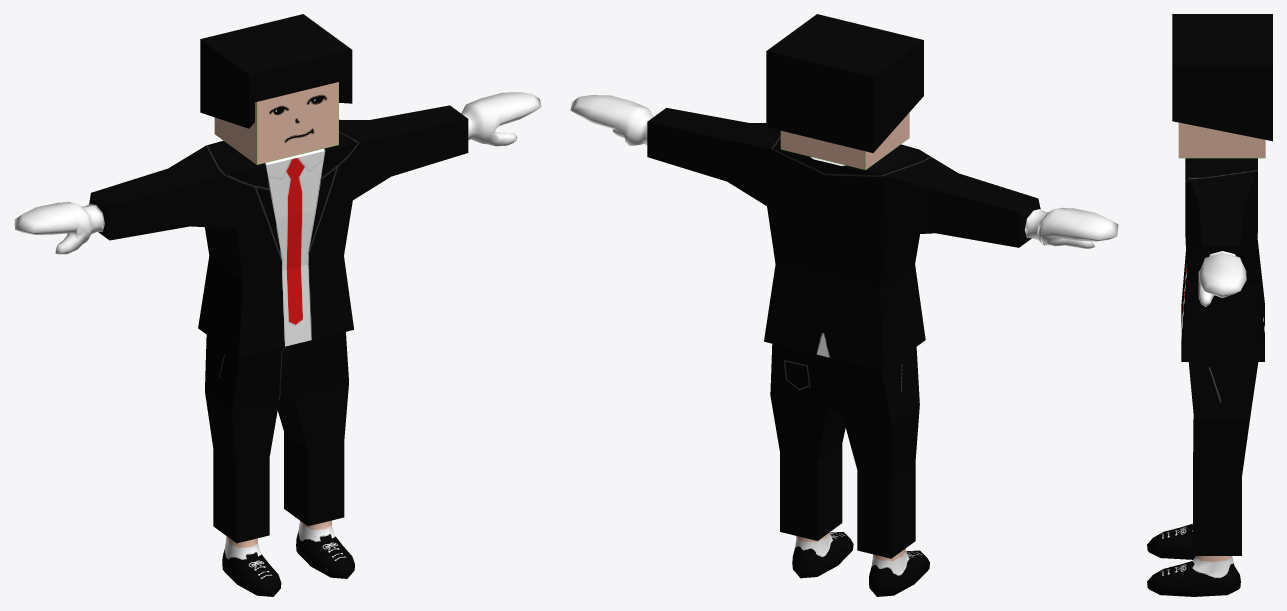
The model's file is a_human001.FBX.
3 renders of one model, left to right at view 1: azimuth 30°, elevation 25°; view 2: azimuth 150°, elevation 25°; view 3: azimuth 270°, elevation 25°, orthographic. The views are drawn at different scales.
Parts seen in each view (by area): view 1: zubon, body, ude001, hear, ude002, face; view 2: zubon, body, hear, ude001, ude002, face; view 3: zubon, hear, body, ude002, face.
Boxes of the visible parts, x1,y1,x2,y2 form: zubon: (205,332,354,596); body: (198,139,353,357); ude001: (14,145,241,254); hear: (200,14,352,128); ude002: (339,92,541,199); face: (214,82,338,164); zubon: (770,344,929,596); body: (764,143,925,370); hear: (766,14,923,152); ude001: (882,149,1118,248); ude002: (570,95,780,205); face: (780,112,909,169); zubon: (1147,362,1258,596); hear: (1172,14,1272,141); body: (1181,158,1264,361); ude002: (1185,170,1257,306); face: (1178,122,1265,158).
Bounding box in the file's own units: 172 × 162 × 34.71.
